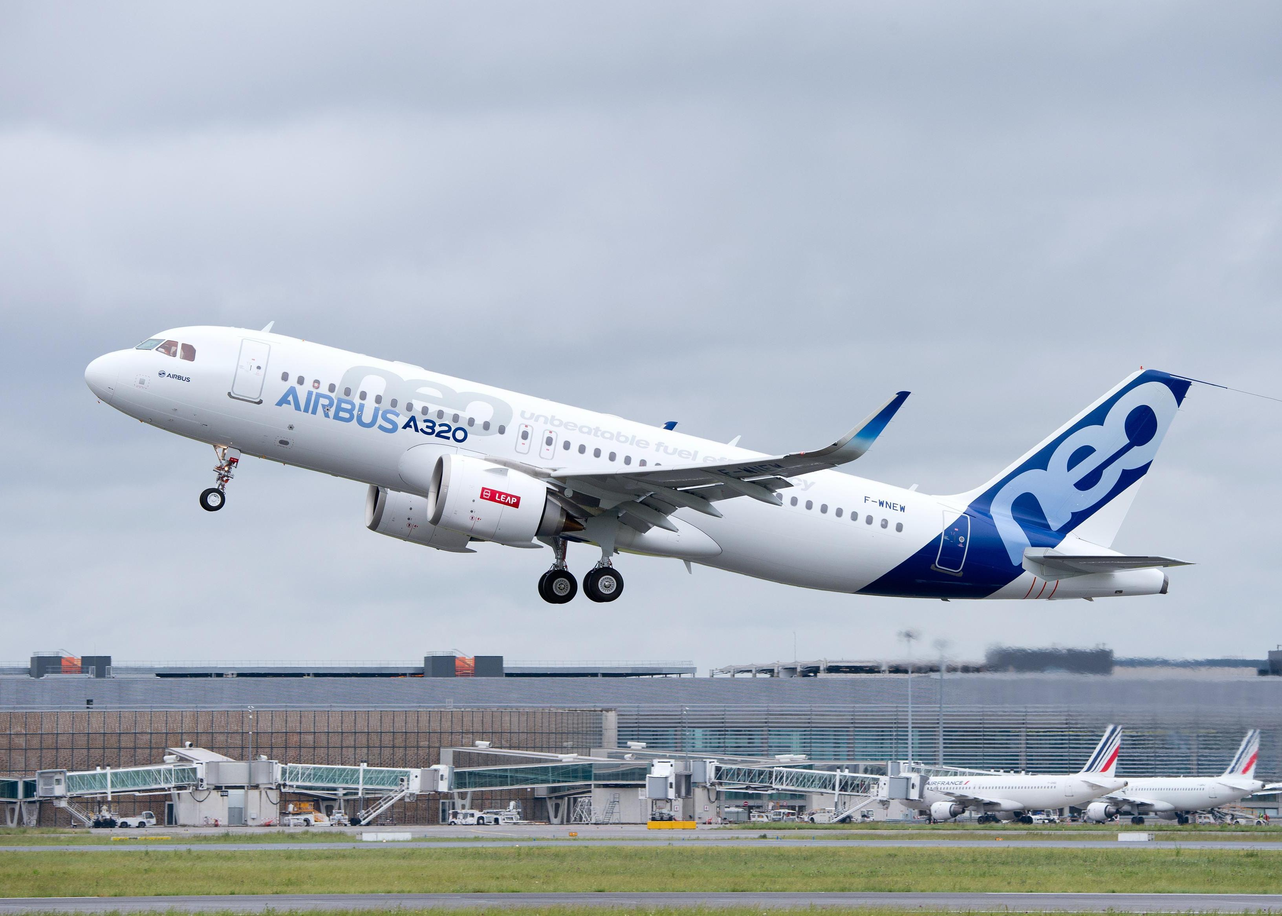aircraft: (33, 364, 1203, 606), (924, 723, 1273, 823)
